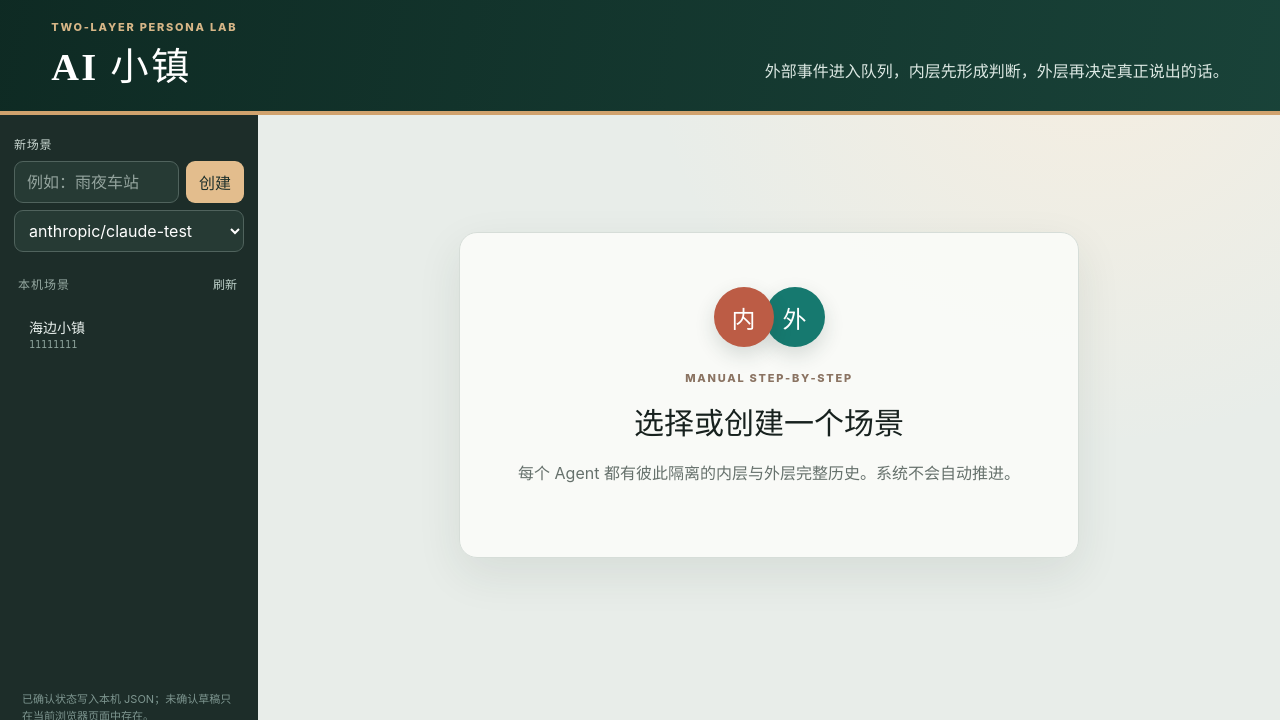
Scenario: App › renders one mixed history with explicit neutral, inner, and outer labels
This screenshot has width=1280, height=720.
Click the button "海边小镇 11111111".
click(113, 334)  # box [19,308,207,359]
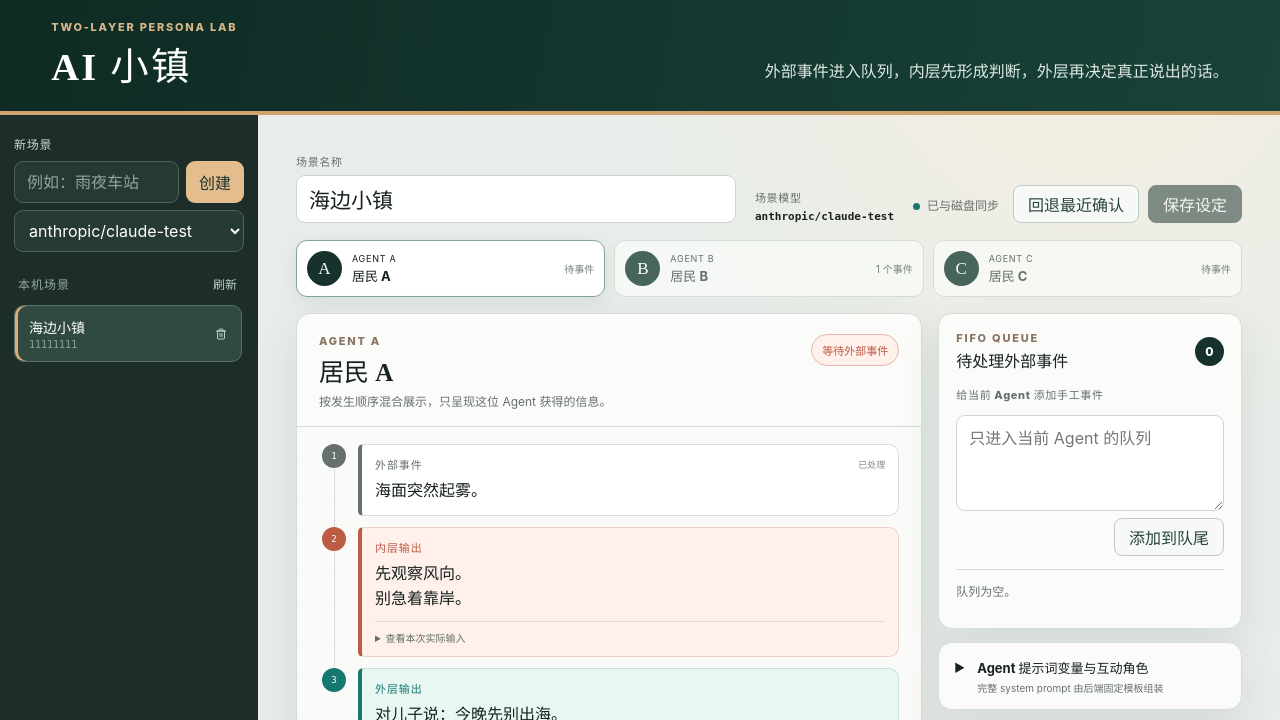
Now the element with class "timeline" shows "外部事件", box [375,458,422,472]
Now the element with class "timeline" shows "内层输出", box [375,541,422,555]
Now the element with class "timeline" shows "外层输出", box [375,682,422,696]
